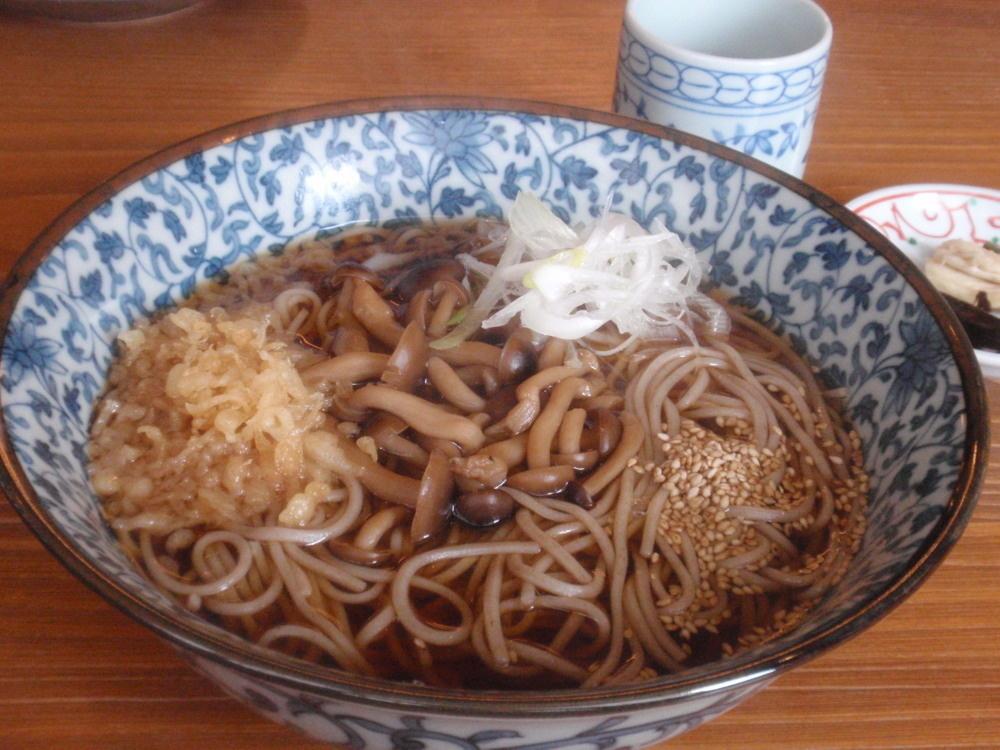Soba: (632, 333, 875, 647)
